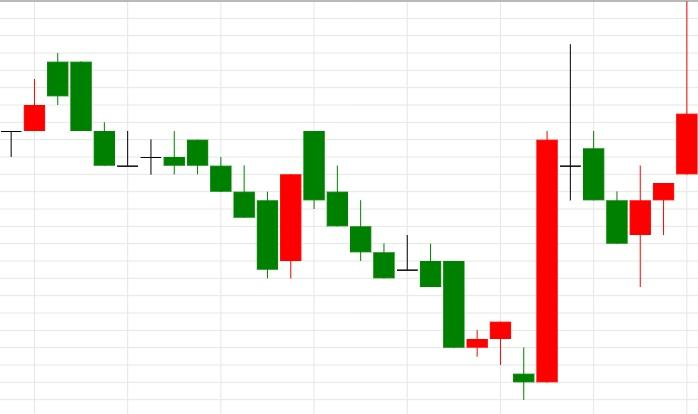bullish_engulfing_rise: (186, 138, 303, 278)
hanging_man_fall: (606, 165, 675, 287)
